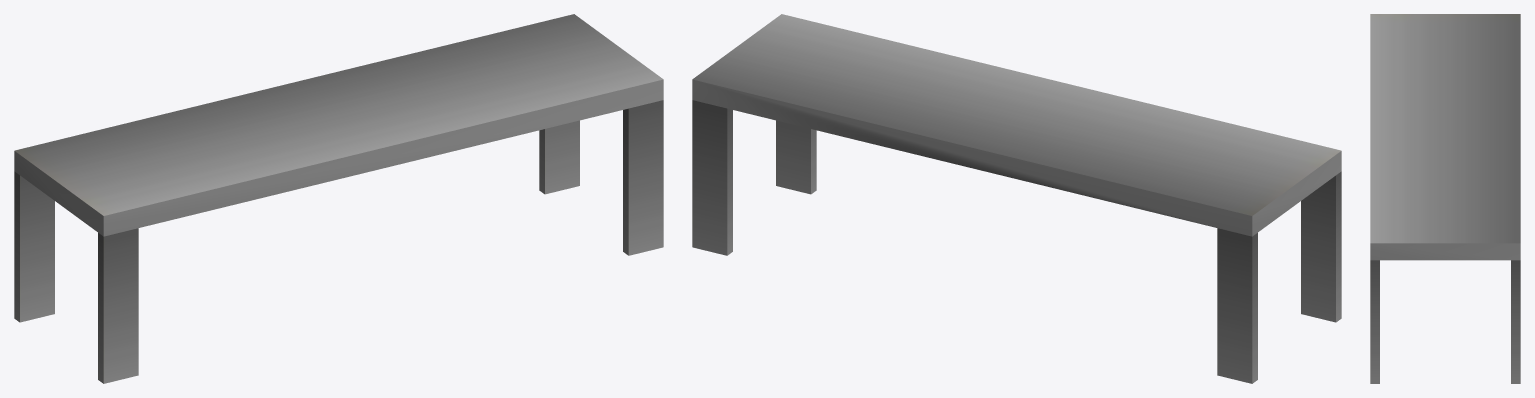
Rendered from Mesa.fbx.
3 views of the same model, side by side, from view 1: azimuth 30°, elevation 25°; view 2: azimuth 150°, elevation 25°; view 3: azimuth 270°, elevation 25° (orthographic). The views are drawn at different scales.
Parts seen in each view (by area): view 1: Cube; view 2: Cube; view 3: Cube.
Part boxes in pixels (bbox=[...]): Cube: bbox=[14, 14, 663, 383]; Cube: bbox=[692, 14, 1341, 383]; Cube: bbox=[1370, 14, 1520, 383].
Bounding box in the file's own units: 723 × 207 × 200.
